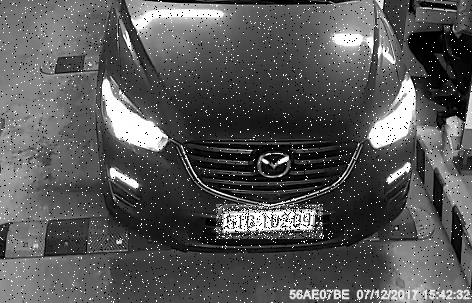License-plate: (218, 205, 326, 240)
